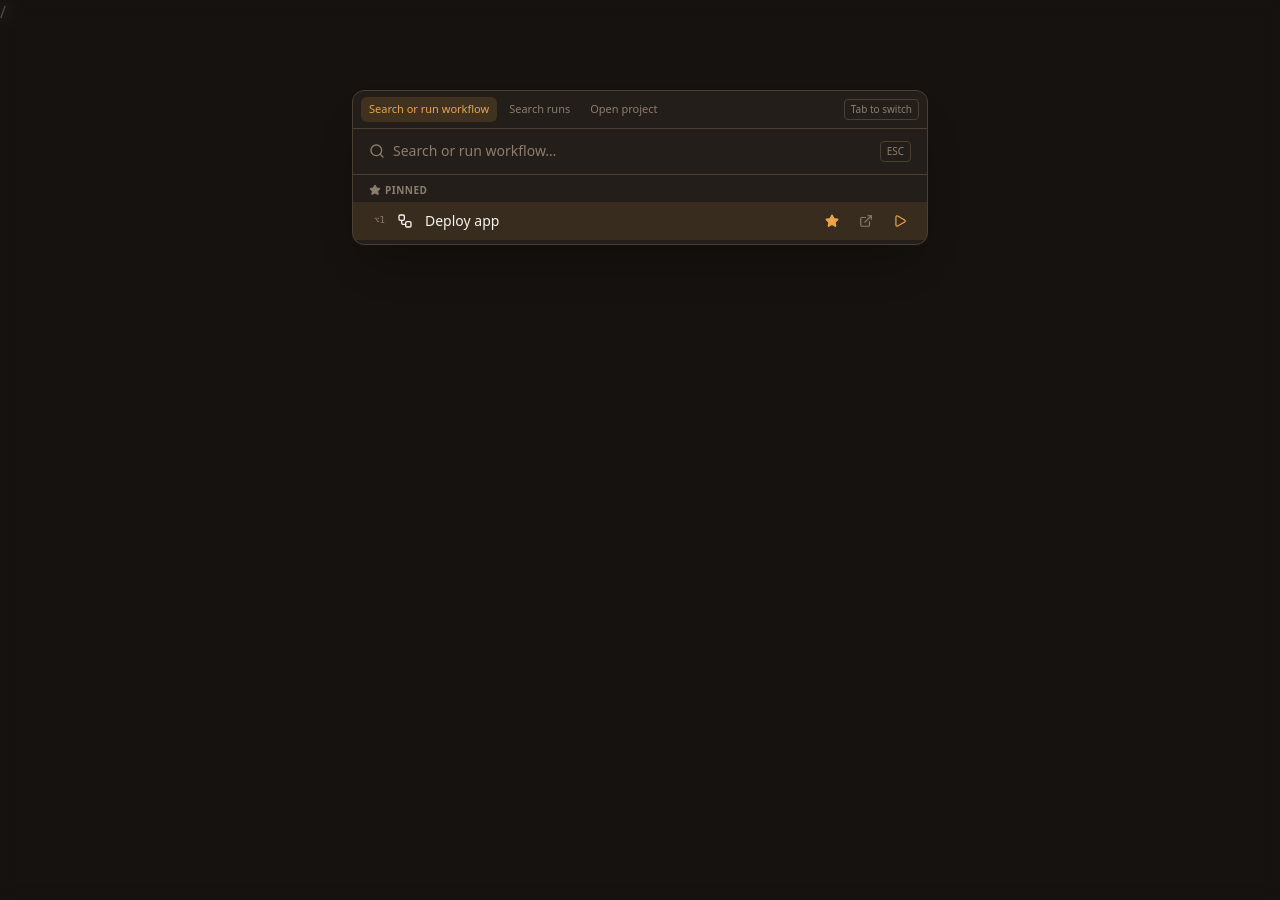
Test: CommandPalette › Enter during the debounce (9ded5db0) › runs the match of what was just typed, not the row still on screen
The image size is (1280, 900).
expect the text "Deploy app" is shown: met, box [425,210,499,230]
Step 1. Type "Deploy" into the field with placeholder "Search or run workflow…" → point(632, 151), box [393,141,872,161]
Wait 250 ms
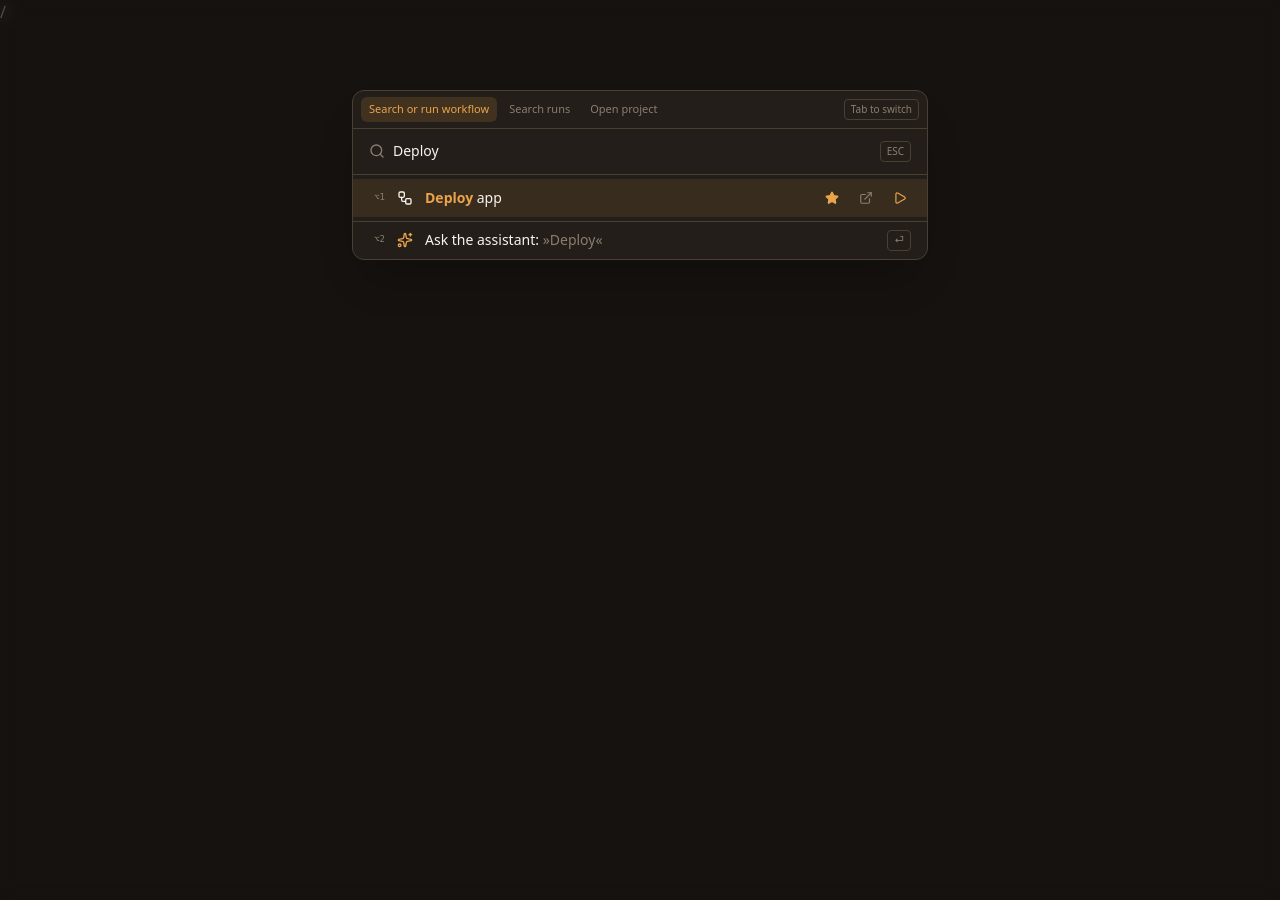
Step 2. Replace the text in the field with placeholder "Search or run workflow…" with "Rotate" → point(632, 151), box [393,141,872,161]
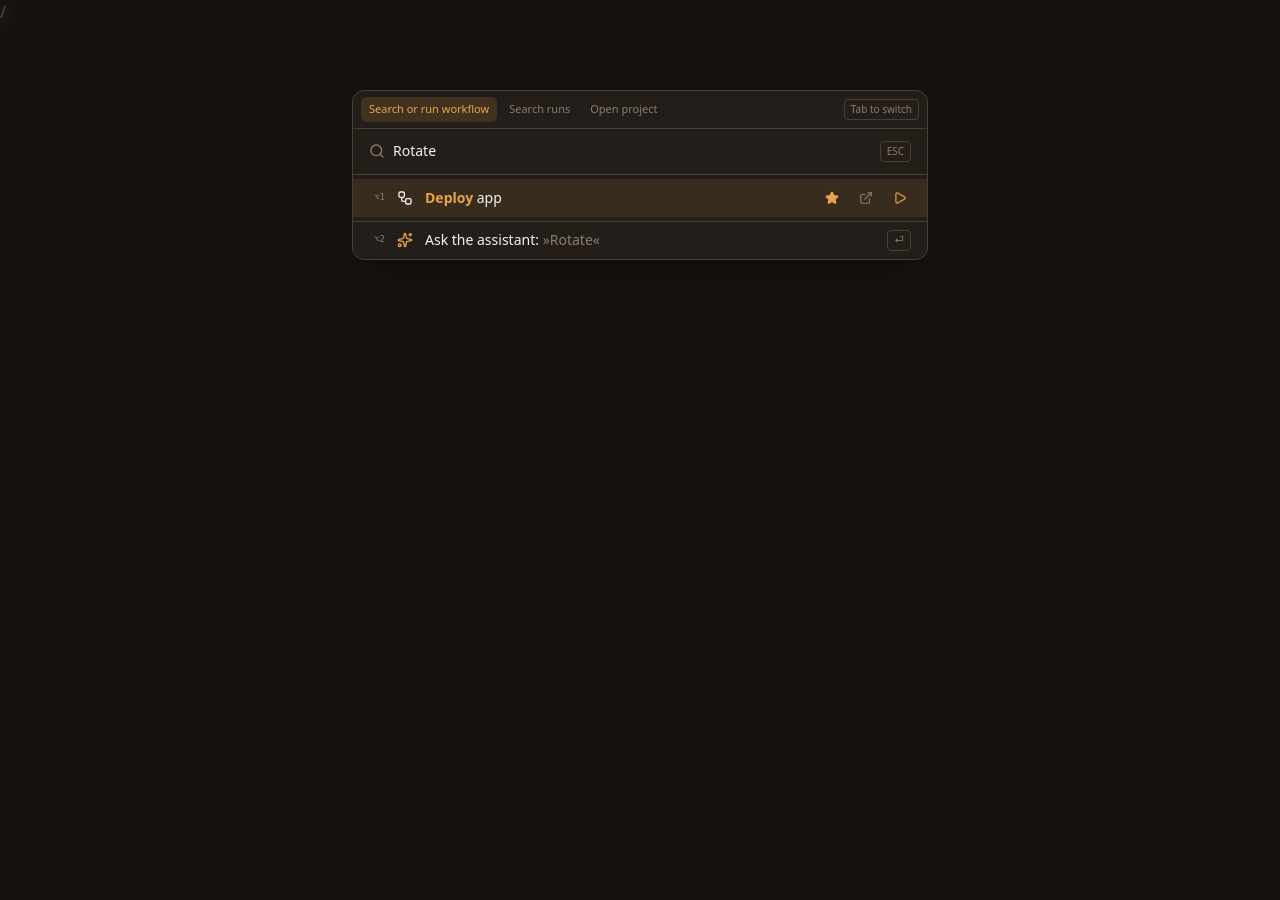
Step 3. Press Enter
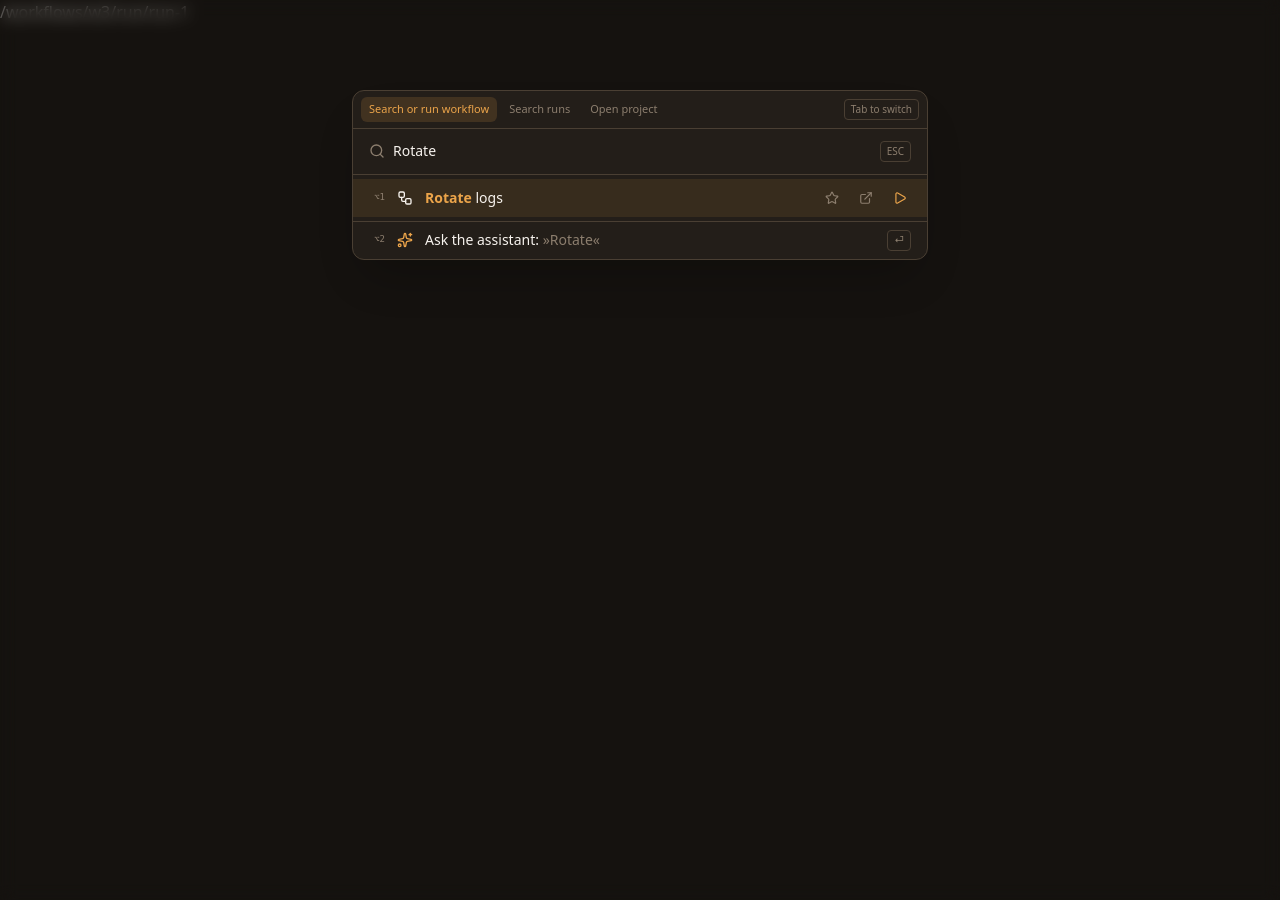
expect the text with test id "location" reads "/workflows/w3/run/run-1": met, box [0,1,189,23]
